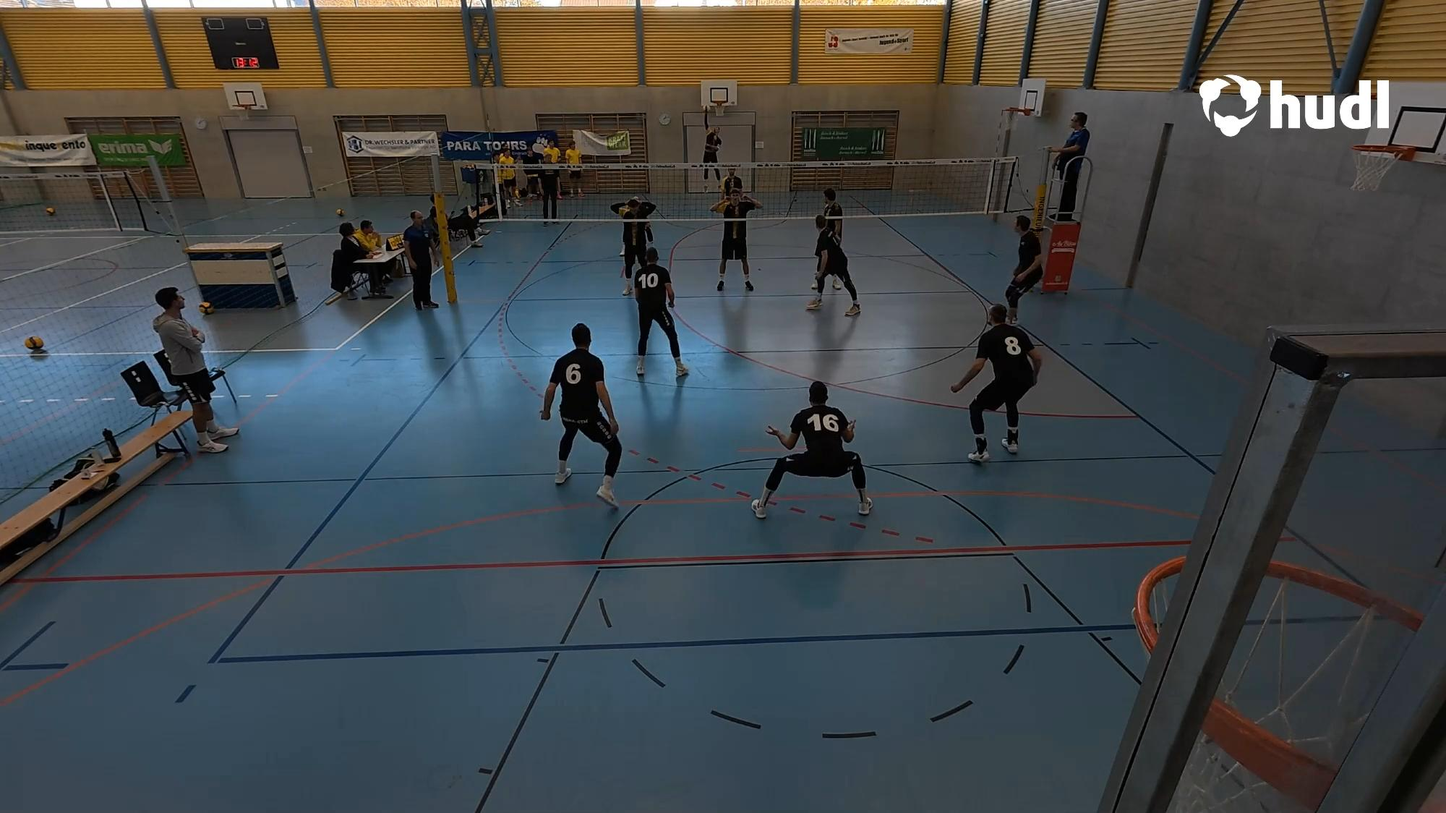Player: (750, 380, 872, 521), (540, 323, 622, 504), (951, 303, 1041, 466), (629, 249, 688, 380), (806, 219, 862, 314), (714, 183, 758, 294), (611, 191, 655, 275), (816, 187, 847, 255), (716, 160, 746, 199)
Serve: (696, 102, 725, 193)
ball: (701, 103, 712, 115)
